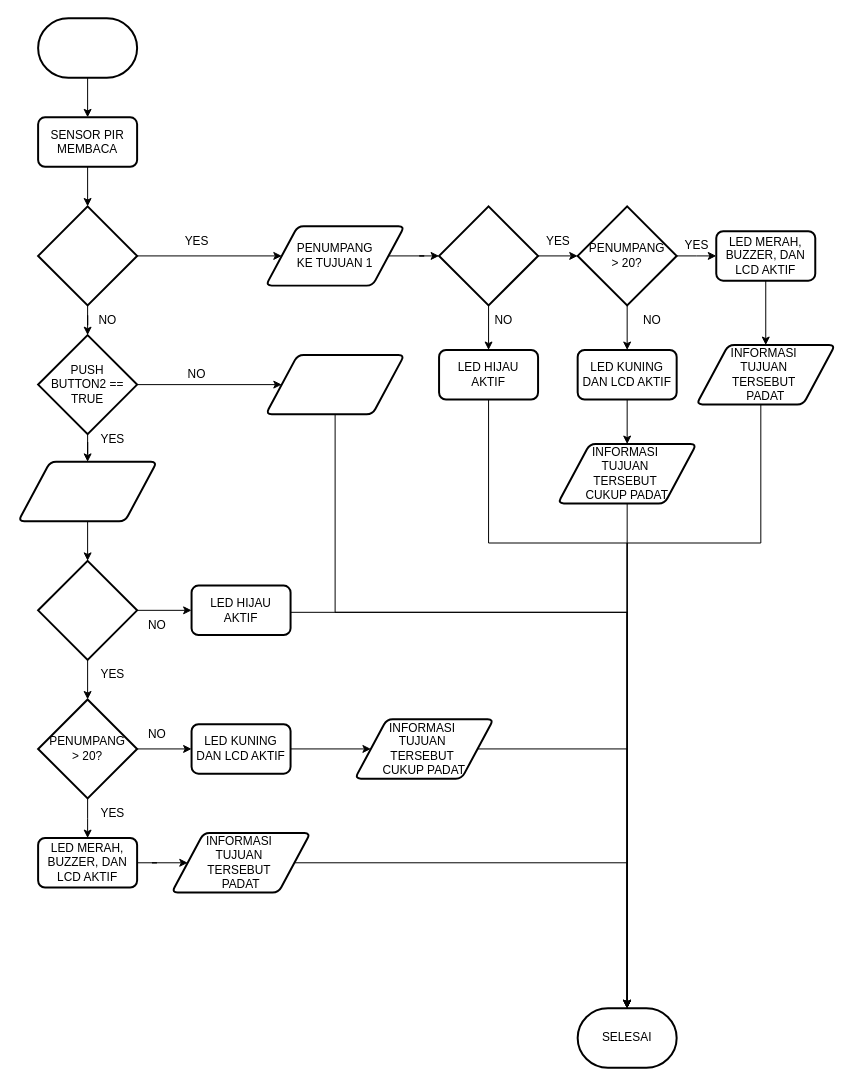
Some shapes in this 852 by 1085 pixel diagram are drawn without their labels. Each missing label, with the centre of its shape:
PENUMPANG > 10?: the point at 87,609
PENUMPANG >10?: the point at 488,255
PENUMPANG KE TUJUAN 2: the point at 87,491
PENUMPANG TIDAK MEMILIH TUJUAN: the point at 334,384
PUSH BUTTON1 == TRUE: the point at 87,255
START: the point at 87,47
